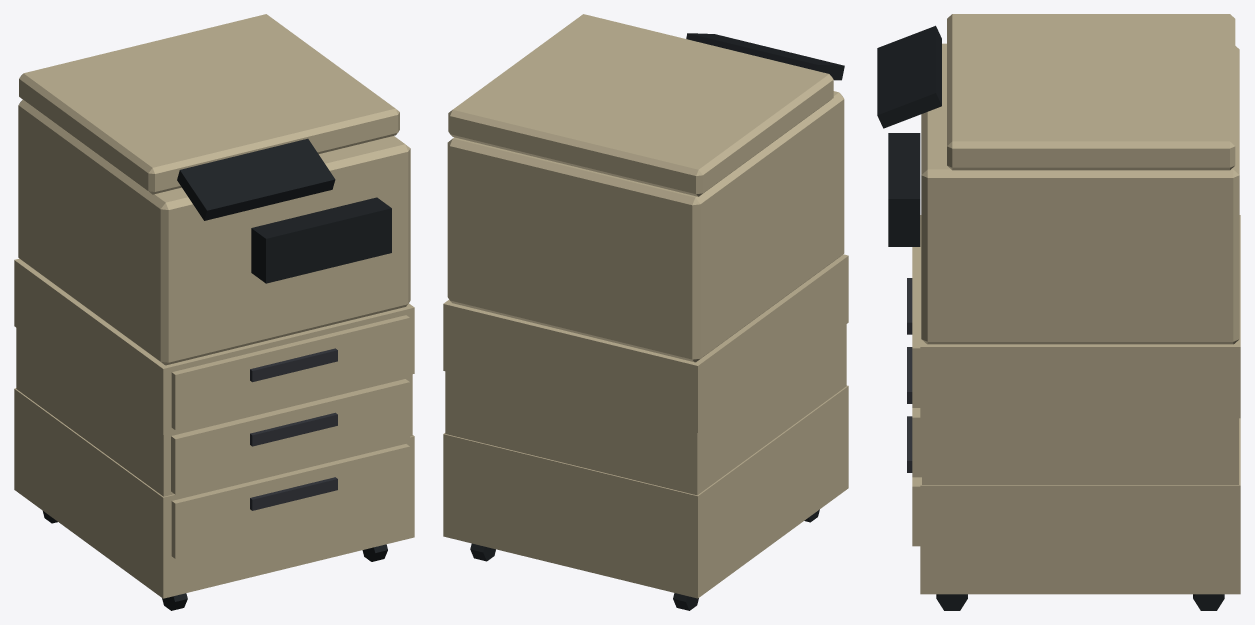
The model's file is printer-copier-00.glb.
The picture shows the model from 3 angles, left to right: view 1: azimuth 30°, elevation 25°; view 2: azimuth 150°, elevation 25°; view 3: azimuth 270°, elevation 25°; orthographic projection. The views are drawn at different scales.
Visible parts, largest first — view 1: printer_copier_00; view 2: printer_copier_00; view 3: printer_copier_00.
Boxes of the visible parts, left/top/right/bottom form: printer_copier_00: left=14, top=14, right=414, bottom=610; printer_copier_00: left=443, top=14, right=848, bottom=610; printer_copier_00: left=877, top=14, right=1240, bottom=610.
Bounding box in the file's own units: 0.5882 × 0.992 × 0.6846.
